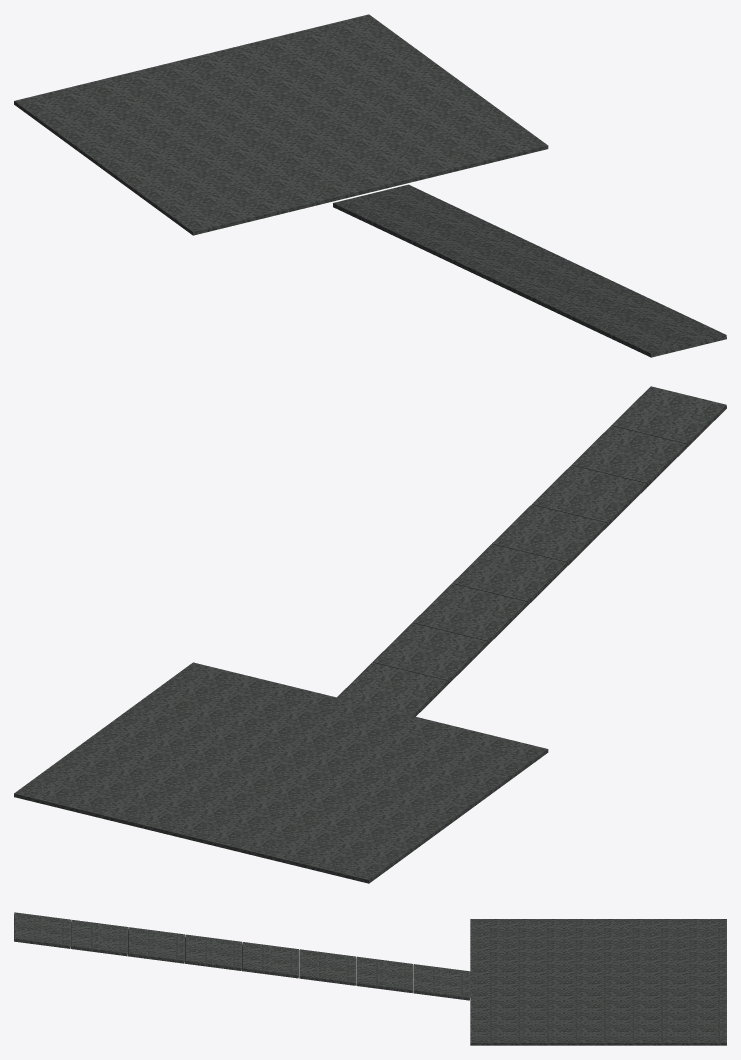
The model's file is PH03_C_RemovableRoofs.fbx.
The picture shows the model from 3 angles, top to bottom: view 1: azimuth 30°, elevation 25°; view 2: azimuth 150°, elevation 25°; view 3: azimuth 270°, elevation 25°; orthographic projection. The views are drawn at different scales.
Visible parts, largest first — view 1: C_RoomRoof, C_TunnelRoof, C_TunnelRoof.005, C_TunnelRoof.006, C_TunnelRoof.001, C_TunnelRoof.004, C_TunnelRoof.007, C_TunnelRoof.003, C_TunnelRoof.002; view 2: C_RoomRoof, C_TunnelRoof.002, C_TunnelRoof.003, C_TunnelRoof.004, C_TunnelRoof.005, C_TunnelRoof, C_TunnelRoof.001, C_TunnelRoof.006, C_TunnelRoof.007; view 3: C_RoomRoof, C_TunnelRoof.007, C_TunnelRoof.001, C_TunnelRoof, C_TunnelRoof.002, C_TunnelRoof.004, C_TunnelRoof.005, C_TunnelRoof.003, C_TunnelRoof.006.
Part boxes in pixels (<box>): C_RoomRoof: <box>14,14,548,235</box>; C_TunnelRoof: <box>611,316,726,357</box>; C_TunnelRoof.005: <box>412,222,527,263</box>; C_TunnelRoof.006: <box>372,203,487,244</box>; C_TunnelRoof.001: <box>571,297,686,338</box>; C_TunnelRoof.004: <box>452,241,566,281</box>; C_TunnelRoof.007: <box>333,184,447,225</box>; C_TunnelRoof.003: <box>492,260,607,300</box>; C_TunnelRoof.002: <box>532,278,646,319</box>; C_RoomRoof: <box>14,662,548,883</box>; C_TunnelRoof.002: <box>532,465,647,525</box>; C_TunnelRoof.003: <box>492,504,607,565</box>; C_TunnelRoof.004: <box>452,544,567,604</box>; C_TunnelRoof.005: <box>412,583,527,644</box>; C_TunnelRoof: <box>611,386,726,447</box>; C_TunnelRoof.001: <box>572,425,686,486</box>; C_TunnelRoof.006: <box>373,623,487,683</box>; C_TunnelRoof.007: <box>337,662,448,716</box>; C_RoomRoof: <box>470,919,726,1045</box>; C_TunnelRoof.007: <box>413,964,470,1000</box>; C_TunnelRoof.001: <box>71,919,127,956</box>; C_TunnelRoof: <box>14,912,70,948</box>; C_TunnelRoof.002: <box>128,927,184,963</box>; C_TunnelRoof.004: <box>242,942,298,978</box>; C_TunnelRoof.005: <box>299,949,355,985</box>; C_TunnelRoof.003: <box>185,934,241,970</box>; C_TunnelRoof.006: <box>356,956,412,993</box>.
Bounding box in the file's own units: 2060 × 478 × 5000.
Materials: 1 (1 with a texture image).
